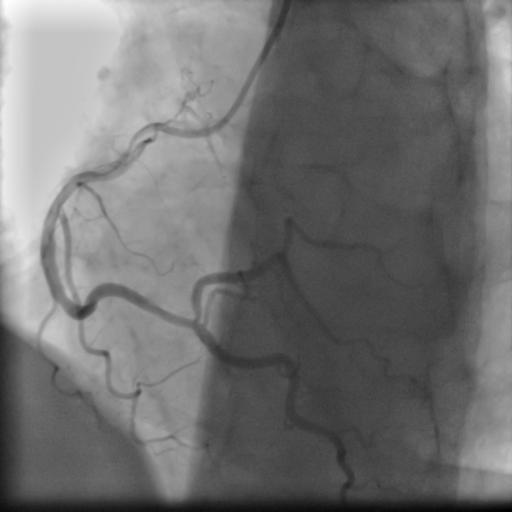Stenosis: (145, 292, 187, 334)
